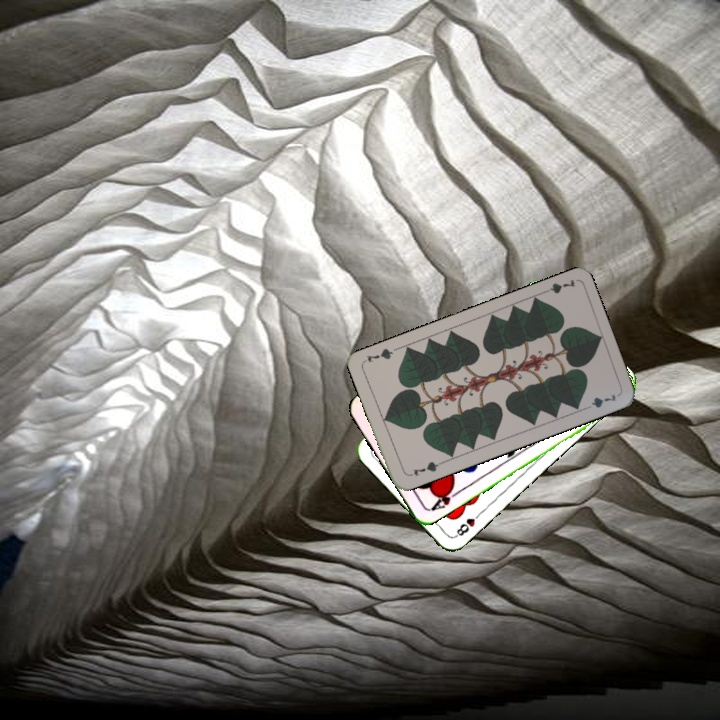G7: (537, 275, 578, 297), (405, 457, 444, 479)
H8: (451, 508, 484, 540)
HA: (425, 482, 462, 514)
